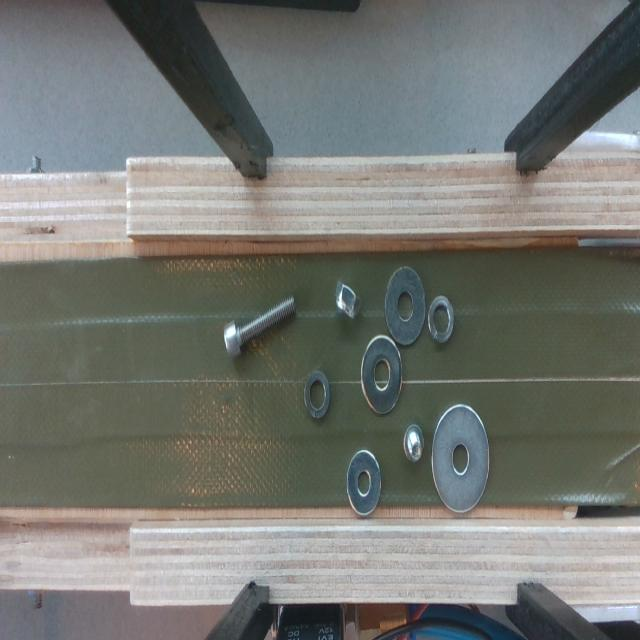Bolt: (224, 297, 295, 358), (404, 423, 424, 462)
Nut: (336, 281, 360, 319)
washer: (431, 404, 489, 513), (361, 335, 402, 414), (385, 266, 425, 344), (346, 450, 381, 516), (428, 295, 454, 343), (305, 371, 330, 419)
